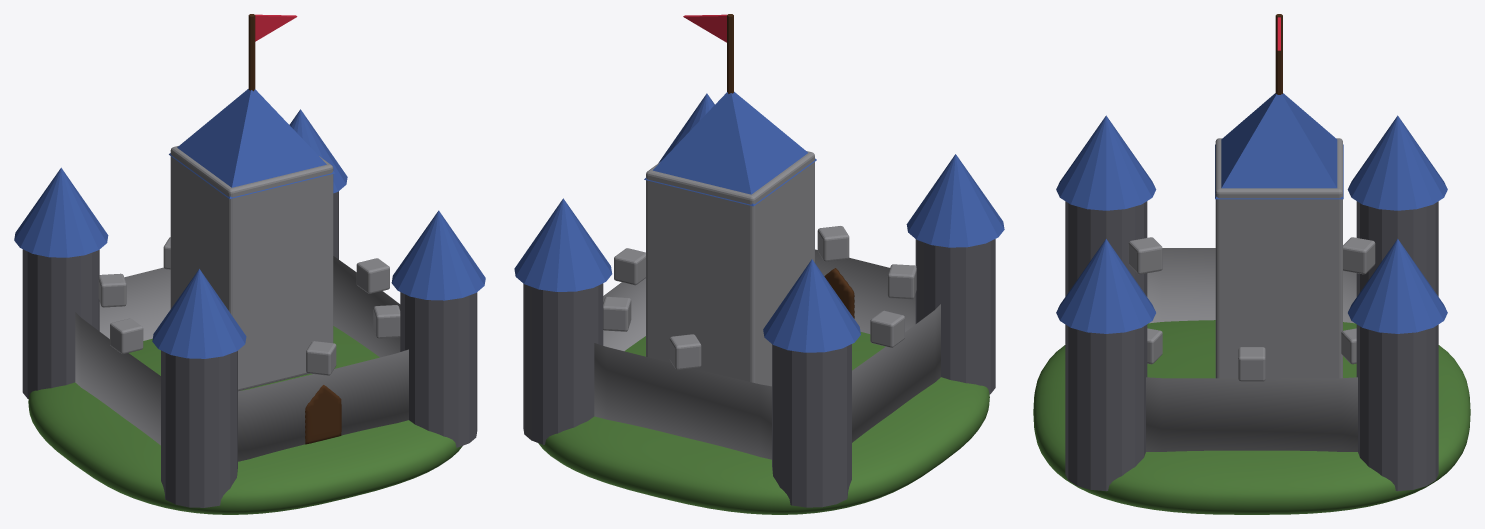
File: castillo.glb
3 renders of one model, left to right at view 1: azimuth 30°, elevation 25°; view 2: azimuth 150°, elevation 25°; view 3: azimuth 270°, elevation 25°, orthographic. The views are drawn at different scales.
Parts seen in each view (by area): view 1: homenaje, monticulo, muralla, torre0, torre1, torre2, homenaje_tejado, tejado1, tejado0, tejado2, puerta, tejado3 (+7 smaller); view 2: homenaje, monticulo, muralla, torre2, torre3, torre0, homenaje_tejado, tejado0, tejado2, tejado3, almena5, almena1 (+10 smaller); view 3: monticulo, homenaje, muralla, torre1, torre3, homenaje_tejado, tejado0, tejado2, tejado1, tejado3, torre0, torre2 (+6 smaller).
Part boxes in pixels (<box>): homenaje: <box>170,146,333,391</box>; monticulo: <box>28,326,462,514</box>; muralla: <box>75,256,408,461</box>; torre0: <box>161,350,237,507</box>; torre1: <box>400,292,477,447</box>; torre2: <box>22,249,99,398</box>; homenaje_tejado: <box>169,89,334,198</box>; tejado1: <box>391,210,485,300</box>; tejado0: <box>152,269,246,358</box>; tejado2: <box>14,167,108,257</box>; puerta: <box>305,385,341,444</box>; tejado3: <box>289,109,347,193</box>; homenaje: <box>646,151,814,386</box>; monticulo: <box>538,332,989,514</box>; muralla: <box>594,249,940,459</box>; torre2: <box>772,344,851,507</box>; torre3: <box>523,283,603,444</box>; torre0: <box>915,239,995,394</box>; homenaje_tejado: <box>644,91,816,206</box>; tejado0: <box>906,154,1004,247</box>; tejado2: <box>763,259,860,352</box>; tejado3: <box>514,198,612,291</box>; almena5: <box>887,264,916,299</box>; almena1: <box>603,296,631,331</box>; monticulo: <box>1033,320,1470,514</box>; homenaje: <box>1215,138,1342,378</box>; muralla: <box>1146,248,1357,451</box>; torre1: <box>1065,324,1147,491</box>; torre3: <box>1356,324,1438,491</box>; homenaje_tejado: <box>1215,93,1343,199</box>; tejado0: <box>1056,115,1156,210</box>; tejado2: <box>1347,115,1447,210</box>; tejado1: <box>1056,239,1155,333</box>; tejado3: <box>1348,239,1447,333</box>; torre0: <box>1065,201,1147,296</box>; torre2: <box>1356,201,1438,296</box>.
Bounding box in the file's own units: 0.48 × 0.53 × 0.48.
